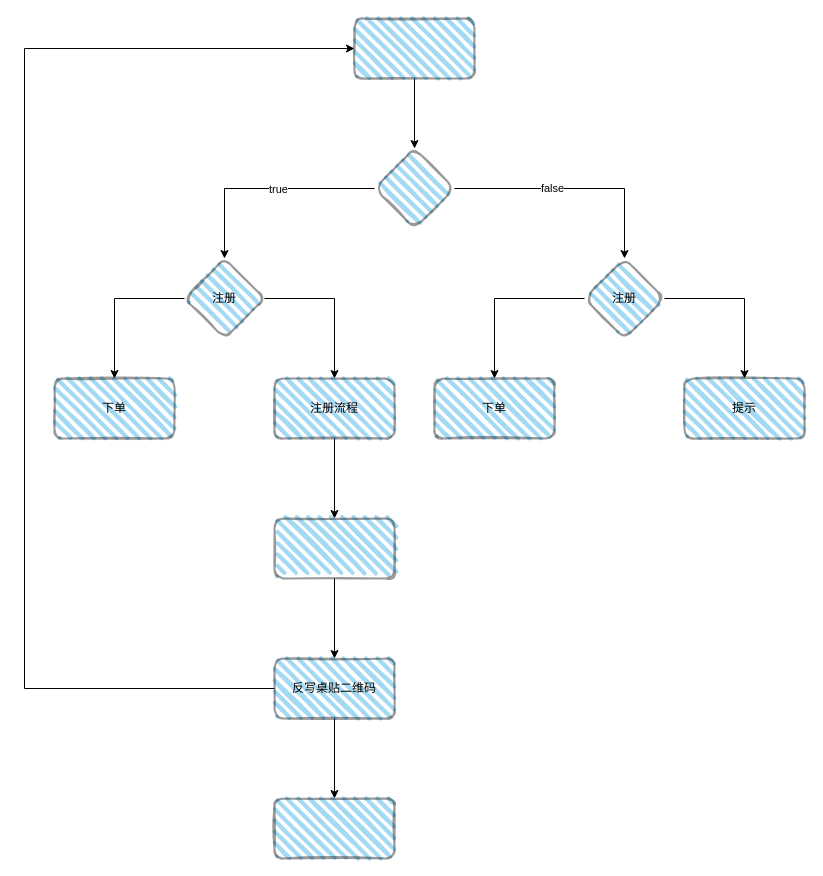
Some shapes in this 823 by 876 pixel diagram are drawn without their labels. Each missing label, with the centre of its shape:
寄件二维码: (334,828)
生成空码: (414,48)
管理员: (414,188)
绑定收发室: (334,548)
